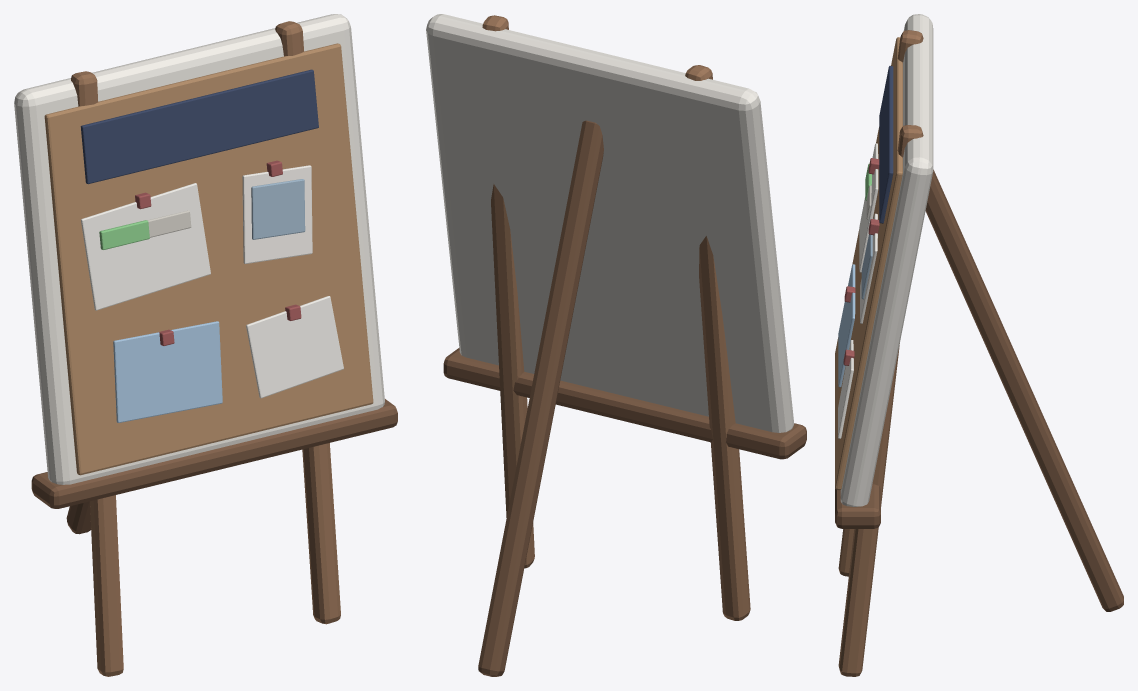
Rendered from notice_board.glb.
The picture shows the model from 3 angles, left to right: view 1: azimuth 30°, elevation 25°; view 2: azimuth 150°, elevation 25°; view 3: azimuth 270°, elevation 25°; orthographic projection. The views are drawn at different scales.
Visible parts, largest first — view 1: NoticeBoardMesh, NoticeContent, Growth; view 2: NoticeBoardMesh; view 3: NoticeBoardMesh, NoticeContent.
Boxes of the visible parts, <box> form: NoticeBoardMesh: <box>14,14,397,676</box>; NoticeContent: <box>80,69,343,422</box>; Growth: <box>99,220,149,249</box>; NoticeBoardMesh: <box>426,14,806,676</box>; NoticeBoardMesh: <box>835,14,1123,676</box>; NoticeContent: <box>838,65,893,438</box>.
Bounding box in the file's own units: 0.66 × 1.05 × 0.502.
